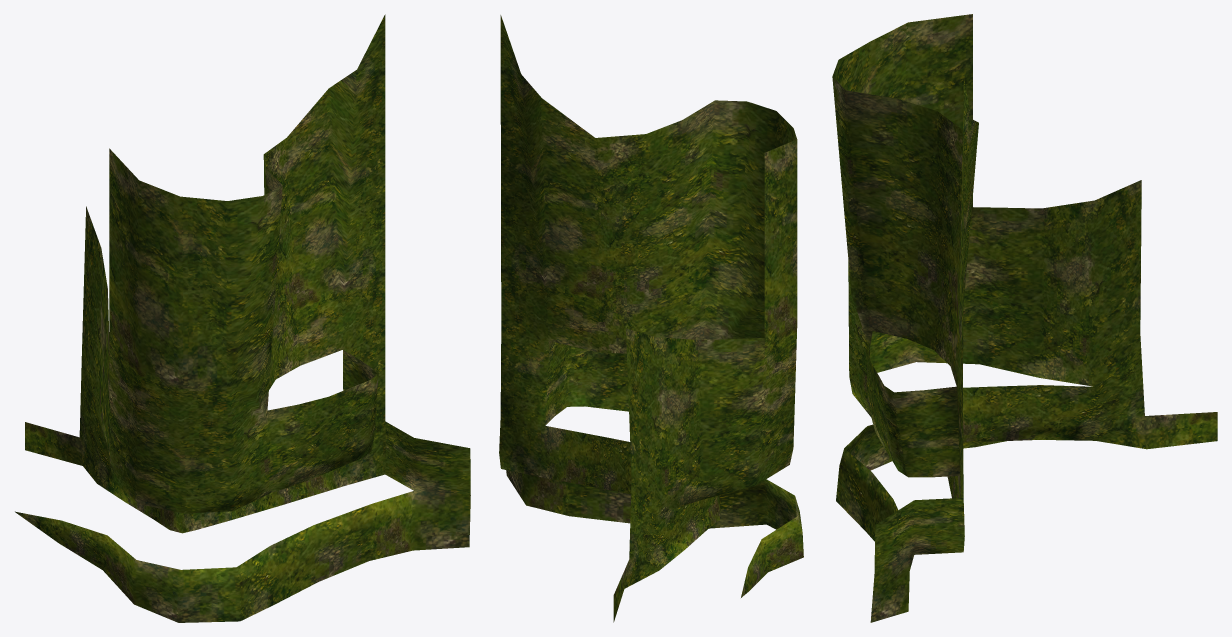
File: OVERHILL_A_01_WALL_201.fbx
3 renders of one model, left to right at view 1: azimuth 30°, elevation 25°; view 2: azimuth 150°, elevation 25°; view 3: azimuth 270°, elevation 25°, orthographic. The views are drawn at different scales.
Parts seen in each view (by area): view 1: OVERHILL_A_01_WALL_201; view 2: OVERHILL_A_01_WALL_201; view 3: OVERHILL_A_01_WALL_201.
Part boxes in pixels (x1=…): OVERHILL_A_01_WALL_201: x1=15, y1=14, x2=470, y2=622; OVERHILL_A_01_WALL_201: x1=499, y1=15, x2=803, y2=622; OVERHILL_A_01_WALL_201: x1=832, y1=14, x2=1217, y2=622.
Size of the model in its own units: 80451 by 113832 by 74480.
1 material, 1 textured.
